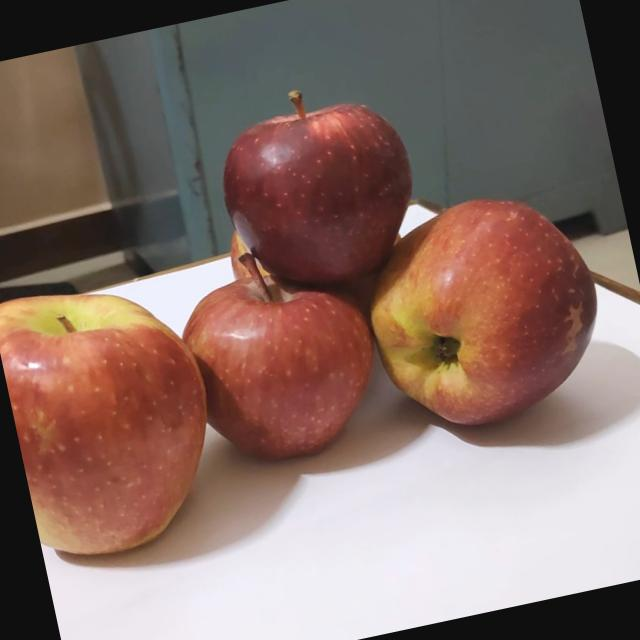apple: (352, 175, 630, 448), (0, 255, 240, 569), (173, 223, 405, 480), (211, 62, 442, 306), (227, 184, 415, 294)
